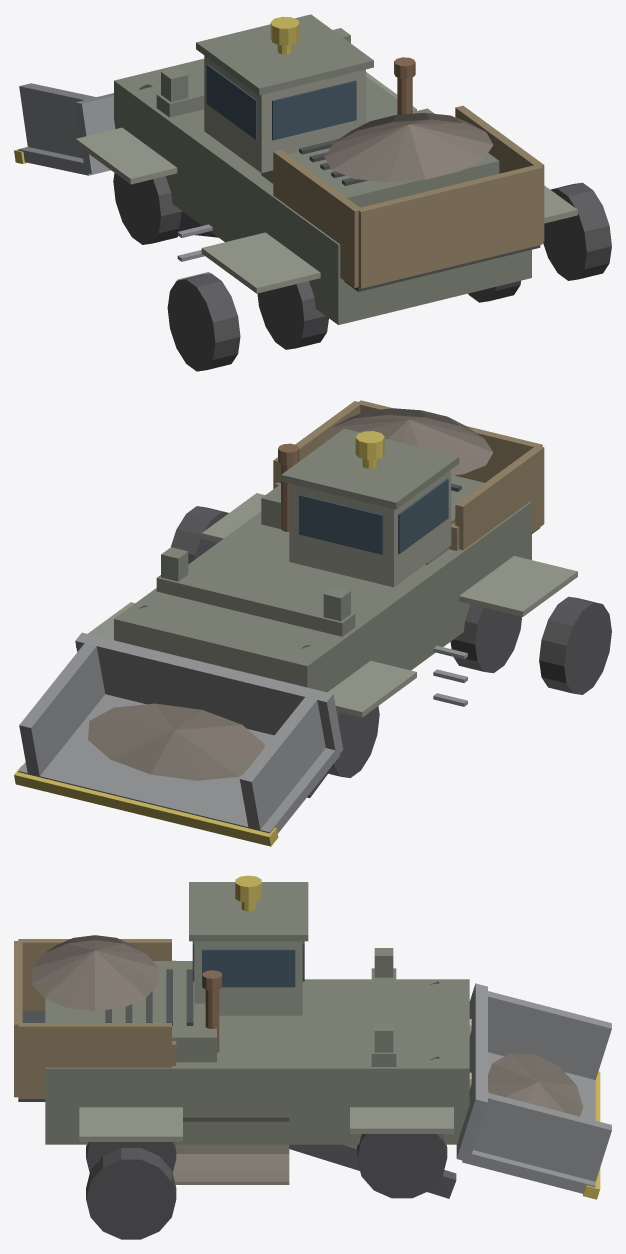
The model's file is soviet_harvester.glb.
3 views of the same model, one above another, from view 1: azimuth 30°, elevation 25°; view 2: azimuth 150°, elevation 25°; view 3: azimuth 270°, elevation 25° (orthographic). The views are drawn at different scales.
Visible parts, largest first — view 1: hull, HopperTail, Ore, CabRoof, Bucket, Cab, wheel_l02b, Hopper_l, wheel_r02b, Mudguard_l2, Hood, wheel_l01a (+13 smaller); view 2: Bucket, hull, BucketLoad, CabRoof, Cab, BoomTower, wheel_l02b, Hopper_l, Ore, Mudguard_l2, BucketLip, CabGlassFront (+12 smaller); view 3: hull, Bucket, Hopper_r, Ore, wheel_r02b, CabRoof, FuelTank, wheel_r01a, Hood, Cab, BucketLoad, Mudguard_r2 (+11 smaller).
Part boxes in pixels (x1,y1,x2,y2): hull: (114, 58, 531, 324); HopperTail: (358, 165, 542, 288); Ore: (324, 113, 493, 182); CabRoof: (196, 14, 373, 95); Bucket: (18, 83, 115, 175); Cab: (204, 55, 365, 172); wheel_l02b: (167, 273, 240, 371); Hopper_l: (273, 150, 361, 287); wheel_r02b: (543, 182, 611, 280); Mudguard_l2: (201, 232, 320, 293); Hood: (261, 108, 499, 207); wheel_l01a: (113, 173, 182, 244); Bucket: (18, 632, 343, 833); hull: (114, 501, 531, 692); BucketLoad: (88, 703, 264, 780); CabRoof: (281, 428, 459, 509); Cab: (289, 470, 451, 587); BoomTower: (156, 547, 355, 636); wheel_l02b: (539, 596, 611, 694); Hopper_l: (455, 445, 544, 550); Ore: (324, 408, 493, 475); Mudguard_l2: (459, 556, 577, 616); BucketLip: (14, 765, 278, 846); CabGlassFront: (299, 495, 383, 554); hull: (45, 979, 469, 1144); Bucket: (456, 983, 611, 1193); Hopper_r: (18, 1023, 171, 1098); Ore: (31, 935, 158, 1011); wheel_r02b: (86, 1148, 176, 1239); CabRoof: (189, 882, 308, 941); FuelTank: (172, 1117, 289, 1184); wheel_r01a: (357, 1134, 447, 1198); Hood: (81, 961, 216, 1062); Cab: (194, 941, 302, 1015); BucketLoad: (488, 1053, 583, 1116); Mudguard_r2: (79, 1107, 182, 1141).
Bounding box in the file's own units: 5.94 × 3.9 × 8.21.
